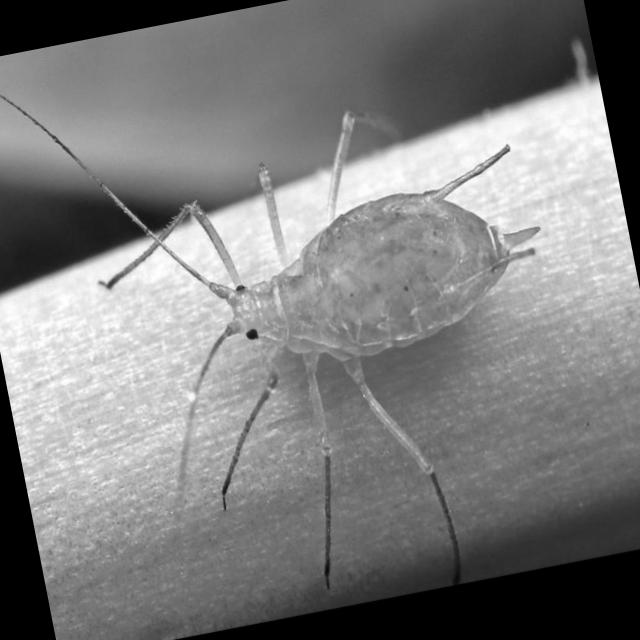Aphids: (70, 104, 587, 576)
